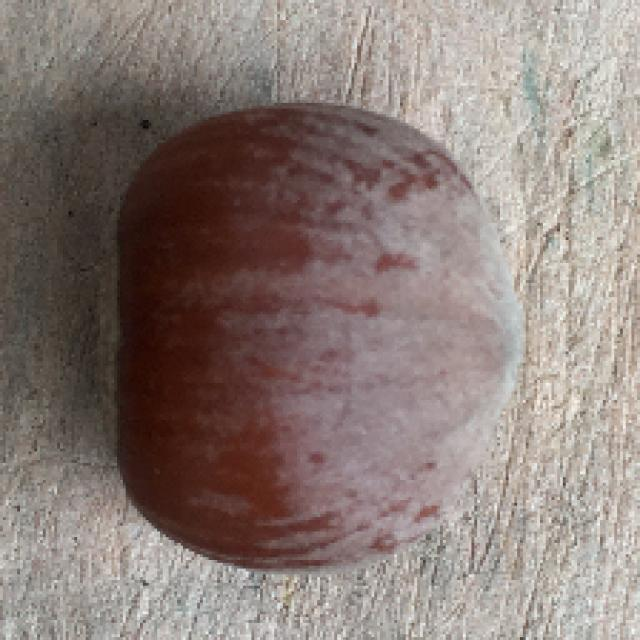qualityHazelnut: (97, 99, 530, 568)
